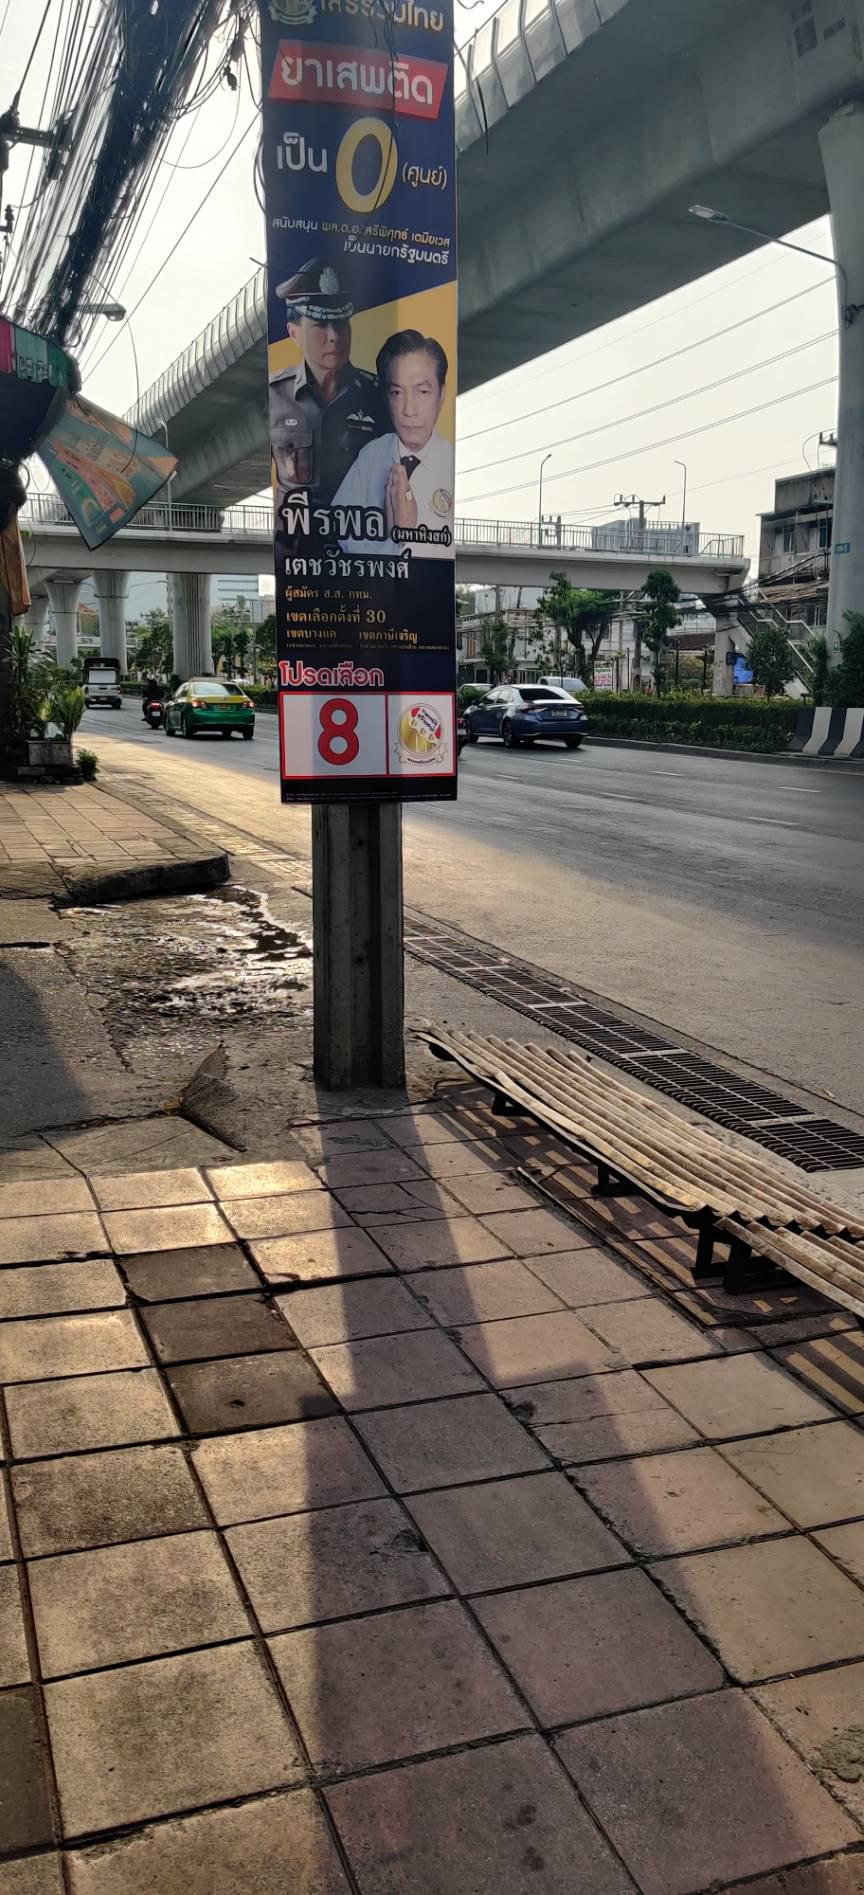Banner: (256, 0, 466, 798)
